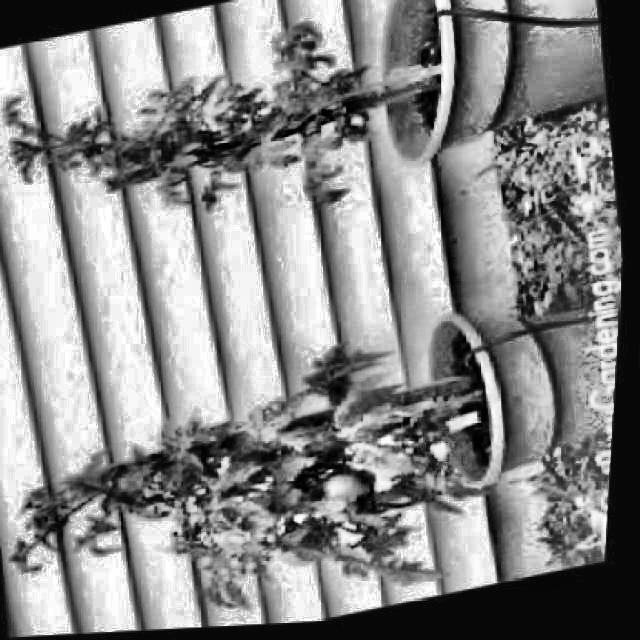plants: (0, 272, 625, 638), (0, 0, 620, 280)
